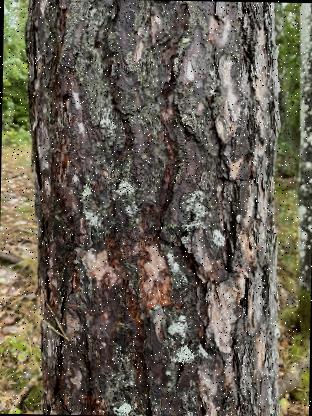tree: (10, 0, 296, 416)
